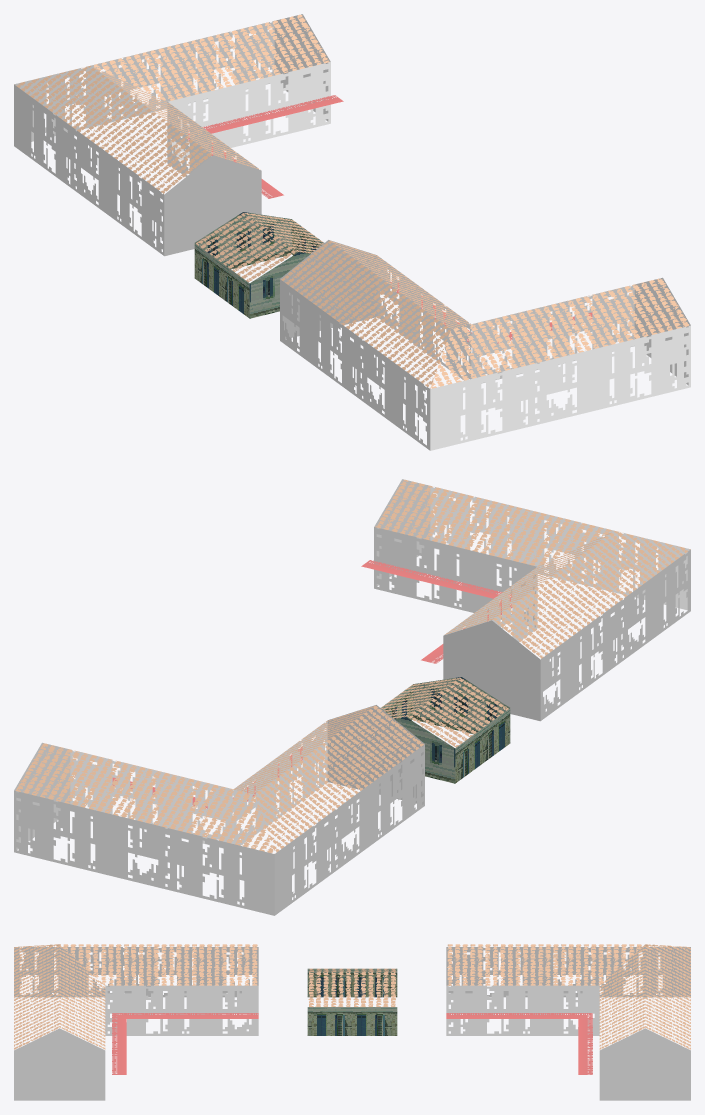
The model's file is uvmd-0065.glb.
The picture shows the model from 3 angles, top to bottom: view 1: azimuth 30°, elevation 25°; view 2: azimuth 150°, elevation 25°; view 3: azimuth 270°, elevation 25°; orthographic projection. The views are drawn at different scales.
Parts seen in each view (by area): view 1: uvmd-0065; view 2: uvmd-0065; view 3: uvmd-0065.
Part boxes in pixels (x1,y1,x2,y2): uvmd-0065: [14, 14, 690, 450]; uvmd-0065: [14, 479, 690, 915]; uvmd-0065: [14, 944, 690, 1100].
Size of the model in its own units: 300 by 98 by 830.
Materials: 5 (5 with a texture image).
